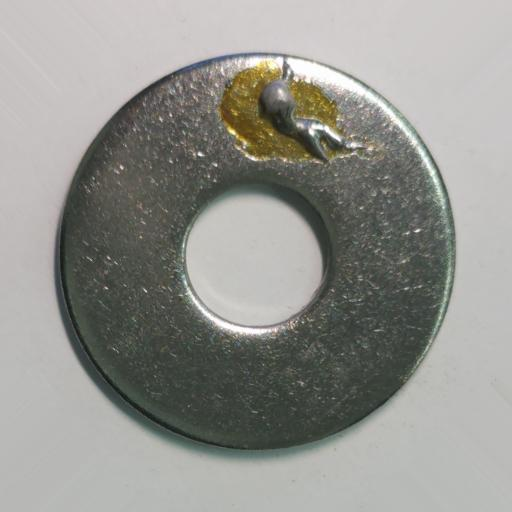excess_material: (261, 57, 368, 164)
